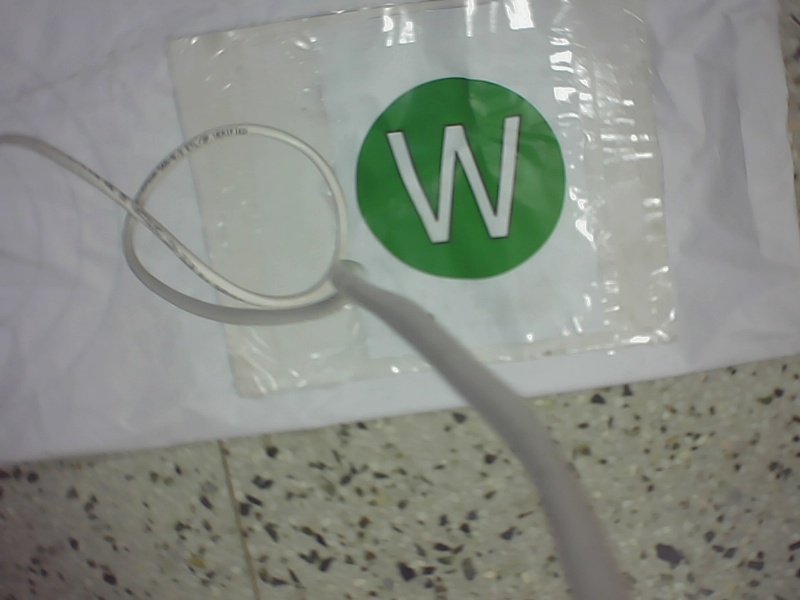areaB: (352, 70, 598, 284)
